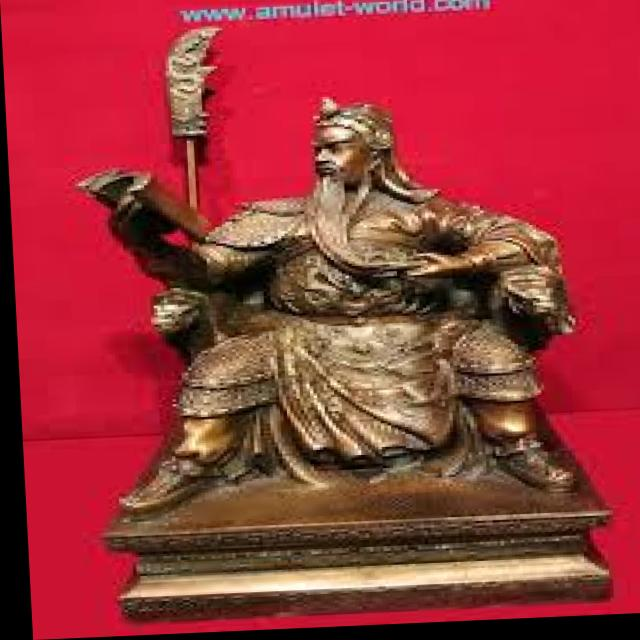Guan Yu: (229, 92, 475, 376)
